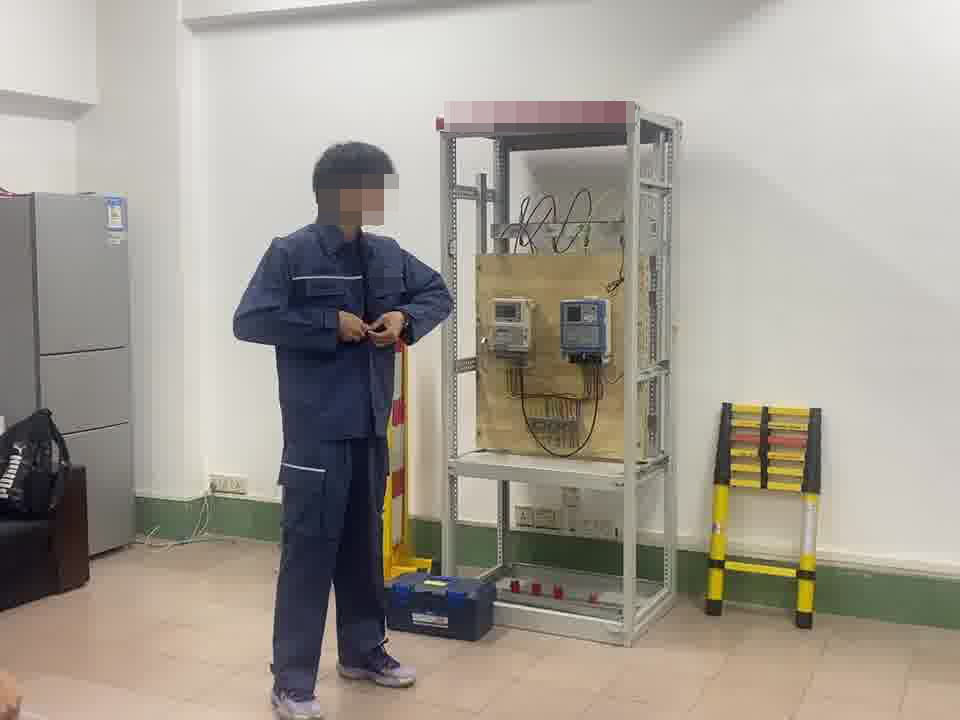downsuit: (267, 451, 398, 694)
hand: (331, 311, 370, 352), (376, 312, 407, 347)
noear: (331, 179, 357, 213)
person: (232, 141, 453, 713)
unhalt: (313, 142, 399, 234)
upsuit: (232, 219, 448, 441)
